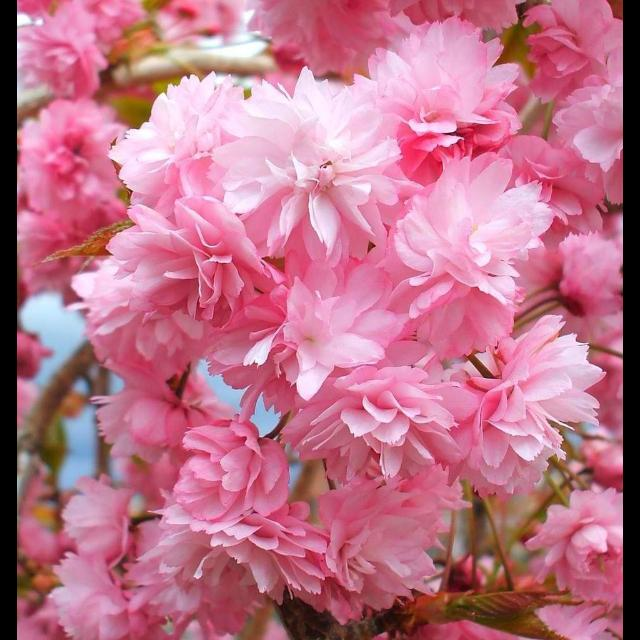Flower: (18, 1, 622, 640), (158, 418, 288, 560)
